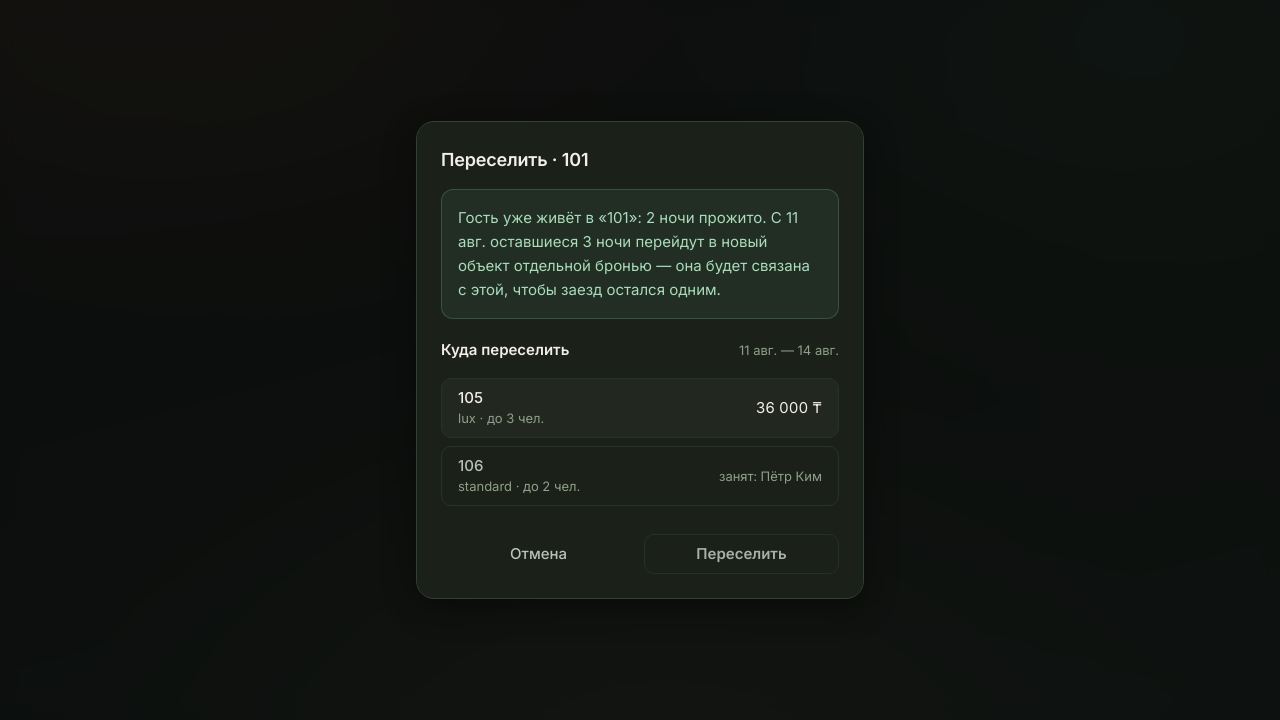
Test: §38 переселение показывает последствие до того, как оно случится › не прячет долг, оставшийся за прожитыми ночами
The image size is (1280, 720).
What coordinates should you click on to do the following:
click the button "105 lux · до 3 чел. 36 000 ₸"
I would click on:
 (491, 418)
Its box is [441,378,839,438].
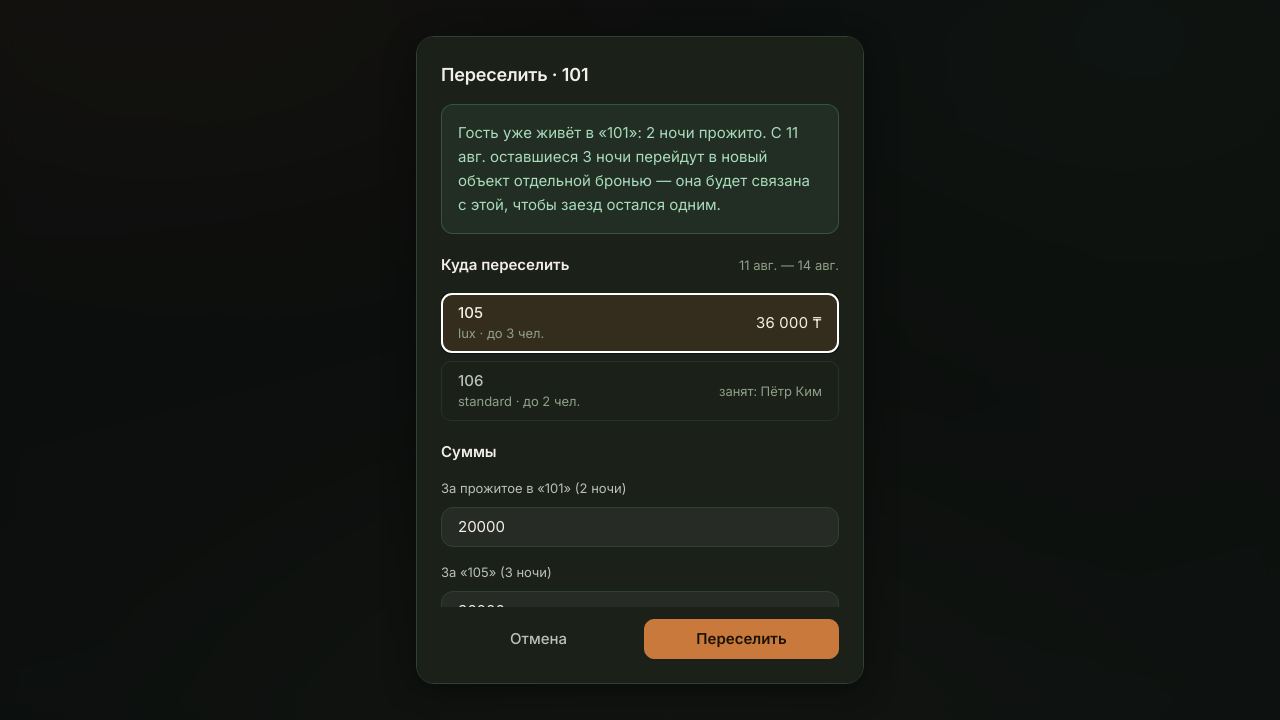
What coordinates should you click on to do the following:
click the button "Переселить"
I would click on:
 (742, 639)
Its box is [644,619,839,659].
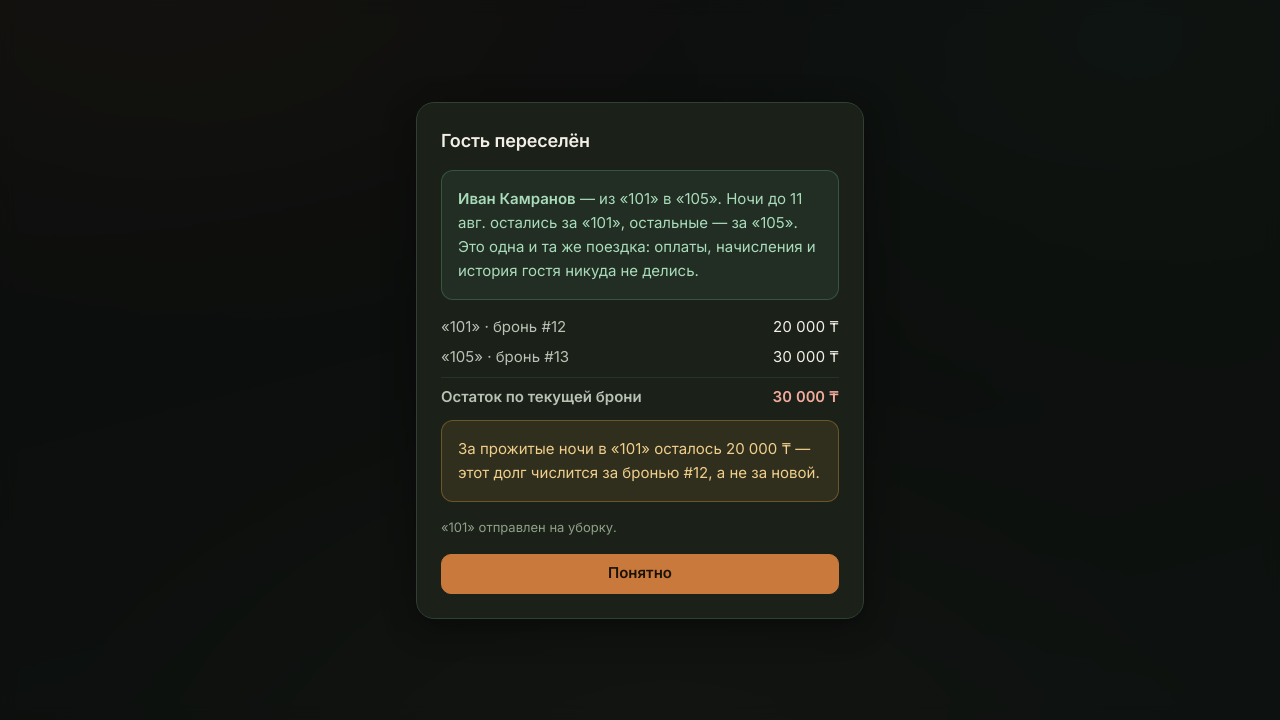
Result: the heading "Гость переселён" is shown at [441,130,590,150]
Result: the text "числится за бронью #12" is shown at [441,420,839,502]
